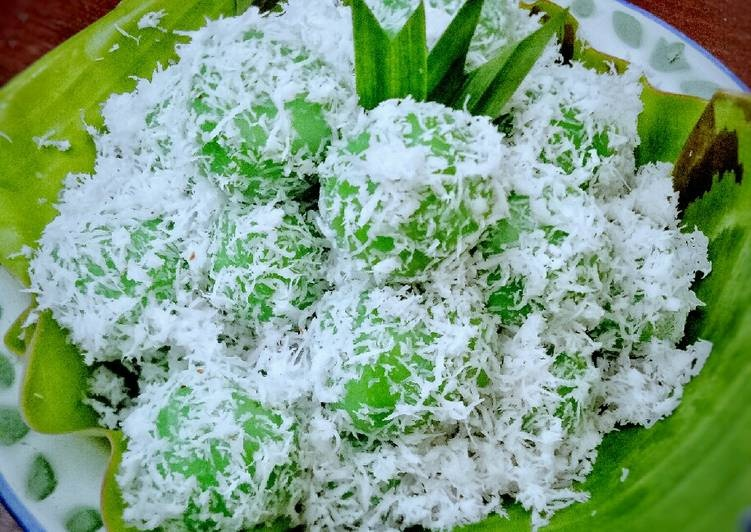klepon: (309, 99, 511, 280)
